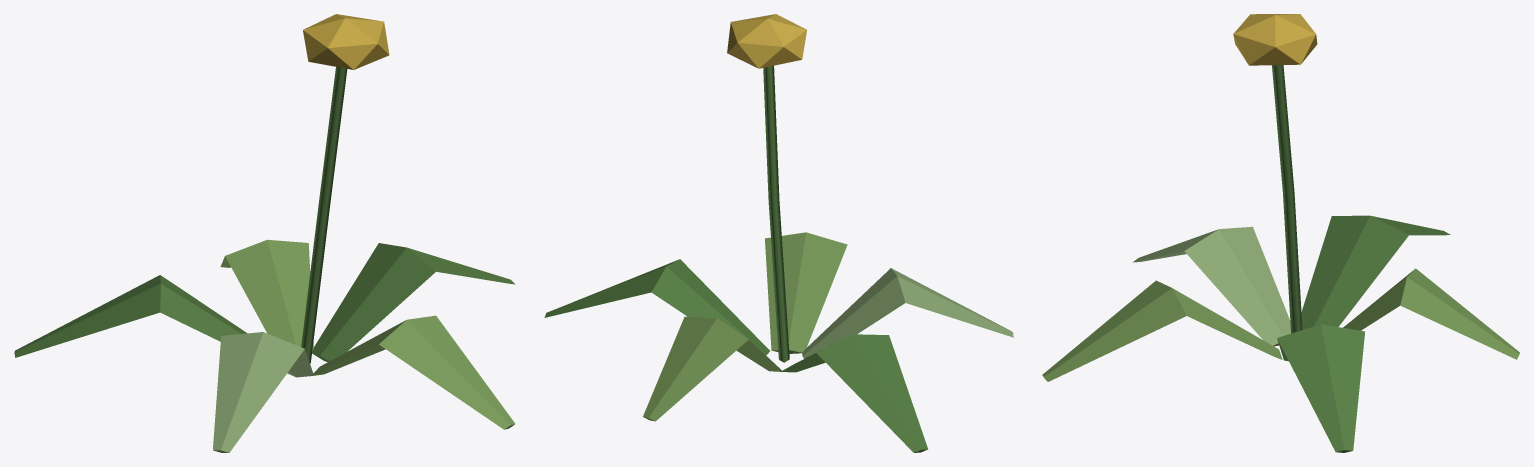
The model's file is nature_scatter_weeds_01.glb.
3 views of the same model, side by side, from view 1: azimuth 30°, elevation 25°; view 2: azimuth 150°, elevation 25°; view 3: azimuth 270°, elevation 25° (orthographic). The views are drawn at different scales.
Parts seen in each view (by area): view 1: nature_scatter_weeds_01; view 2: nature_scatter_weeds_01; view 3: nature_scatter_weeds_01.
Boxes of the visible parts, x1,y1,x2,y2 form: nature_scatter_weeds_01: (14, 14, 515, 452); nature_scatter_weeds_01: (544, 14, 1013, 452); nature_scatter_weeds_01: (1042, 14, 1519, 452).
Size of the model in its own units: 0.2335 by 0.1736 by 0.2133.
